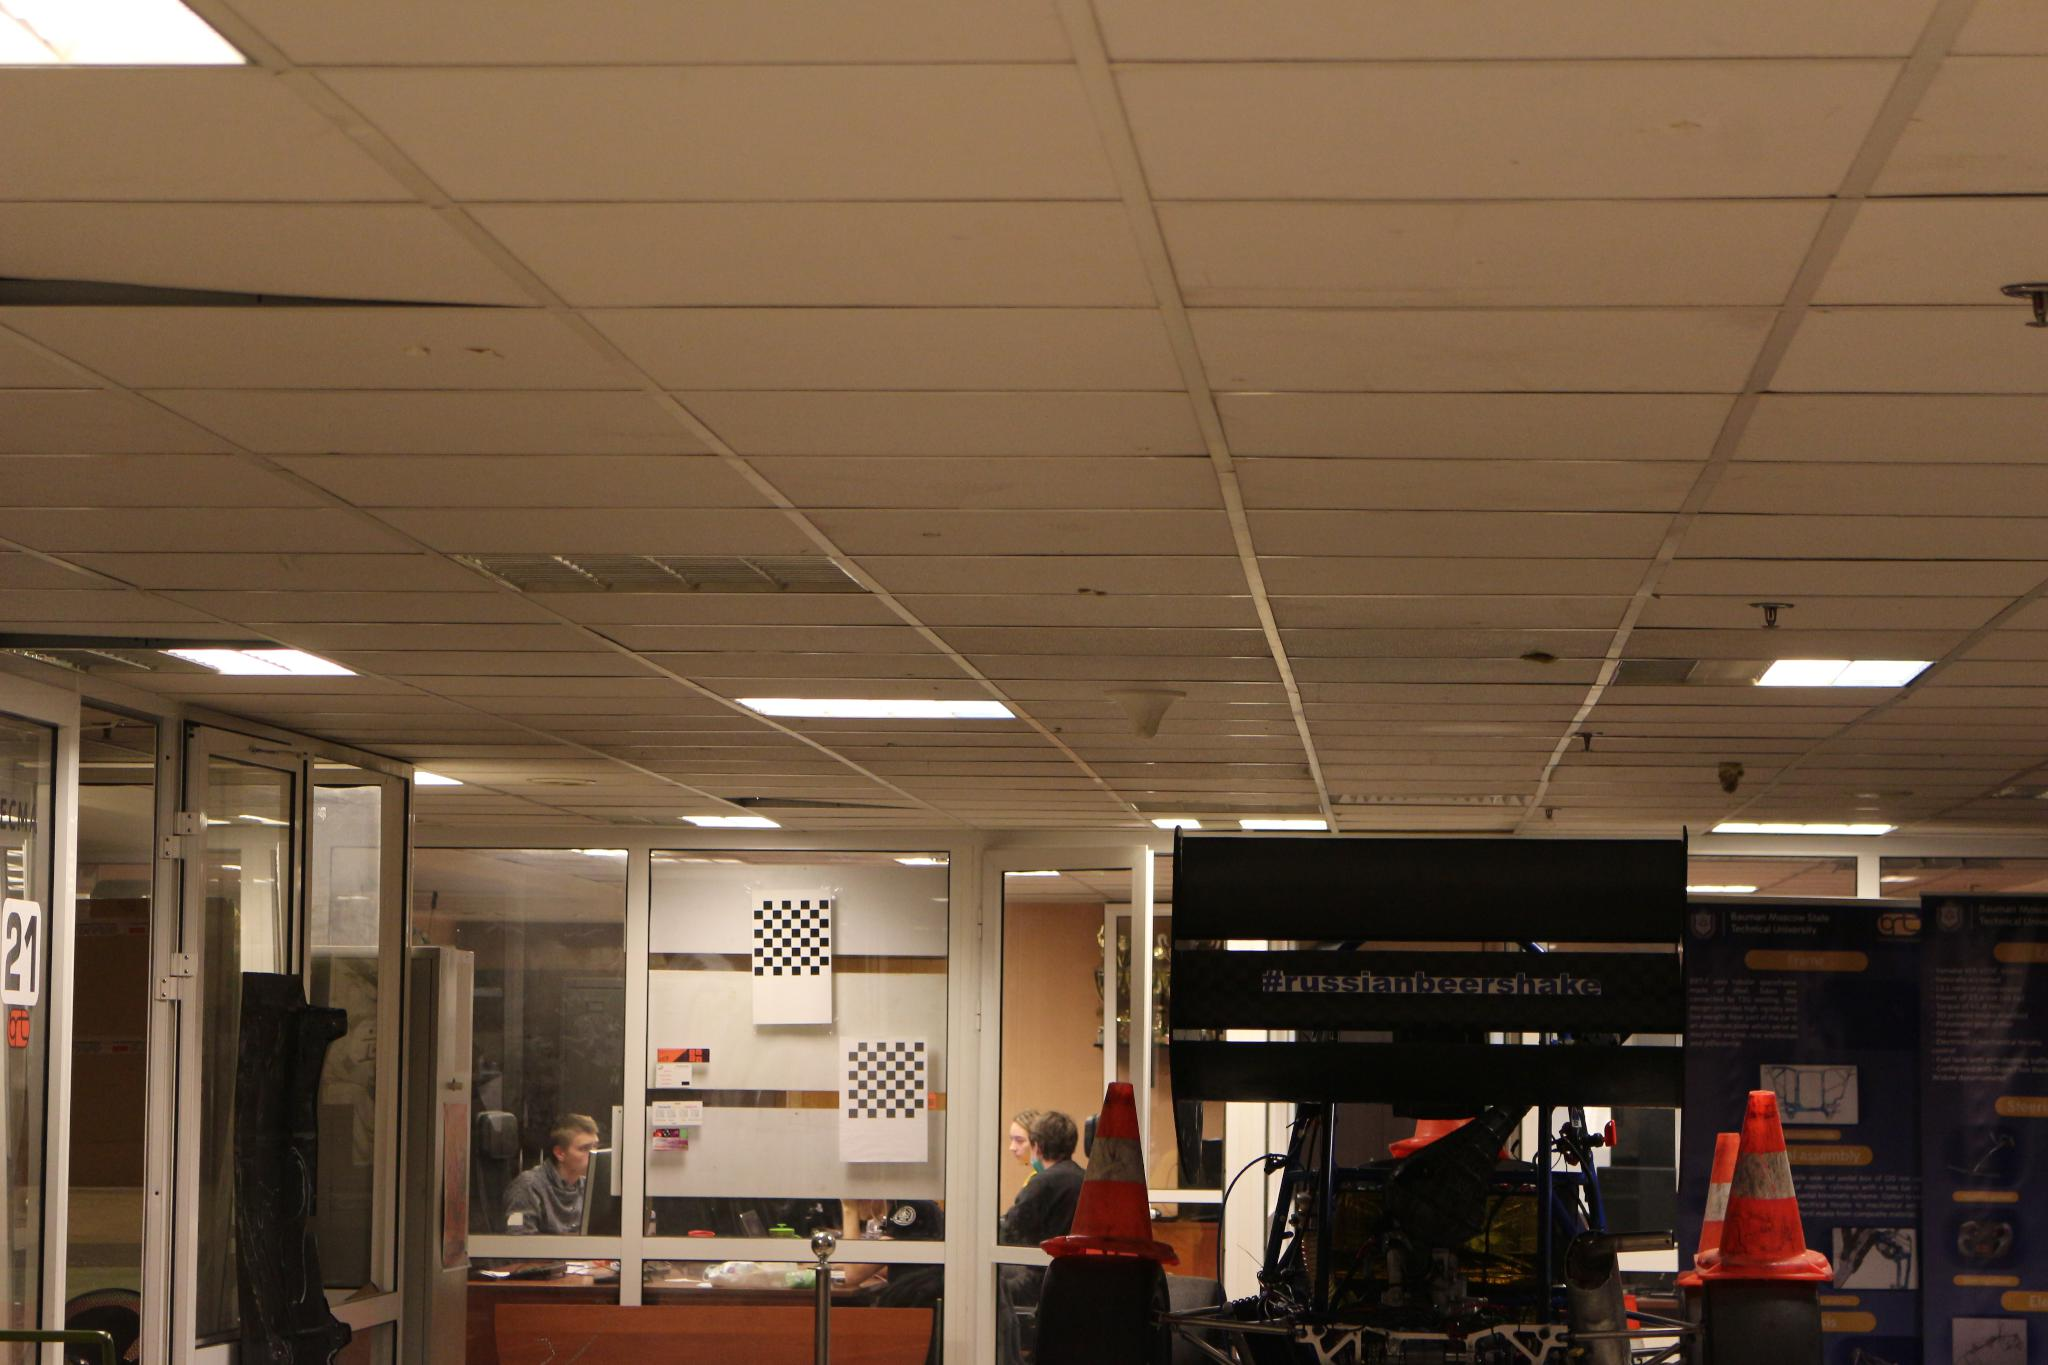Orange_Cone: (1708, 1080, 1838, 1280), (1048, 1071, 1177, 1264), (1676, 1127, 1794, 1287)
